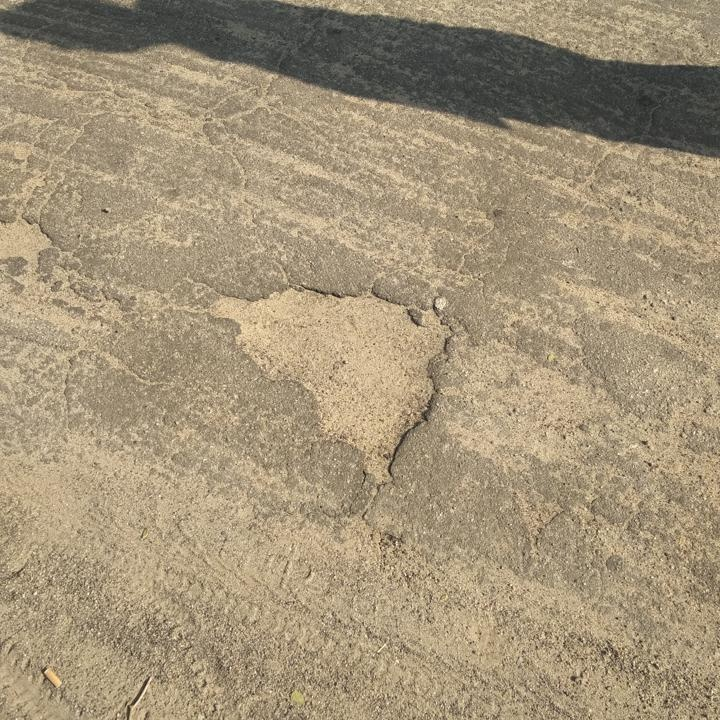pothole: (202, 281, 463, 487), (0, 214, 58, 266)
